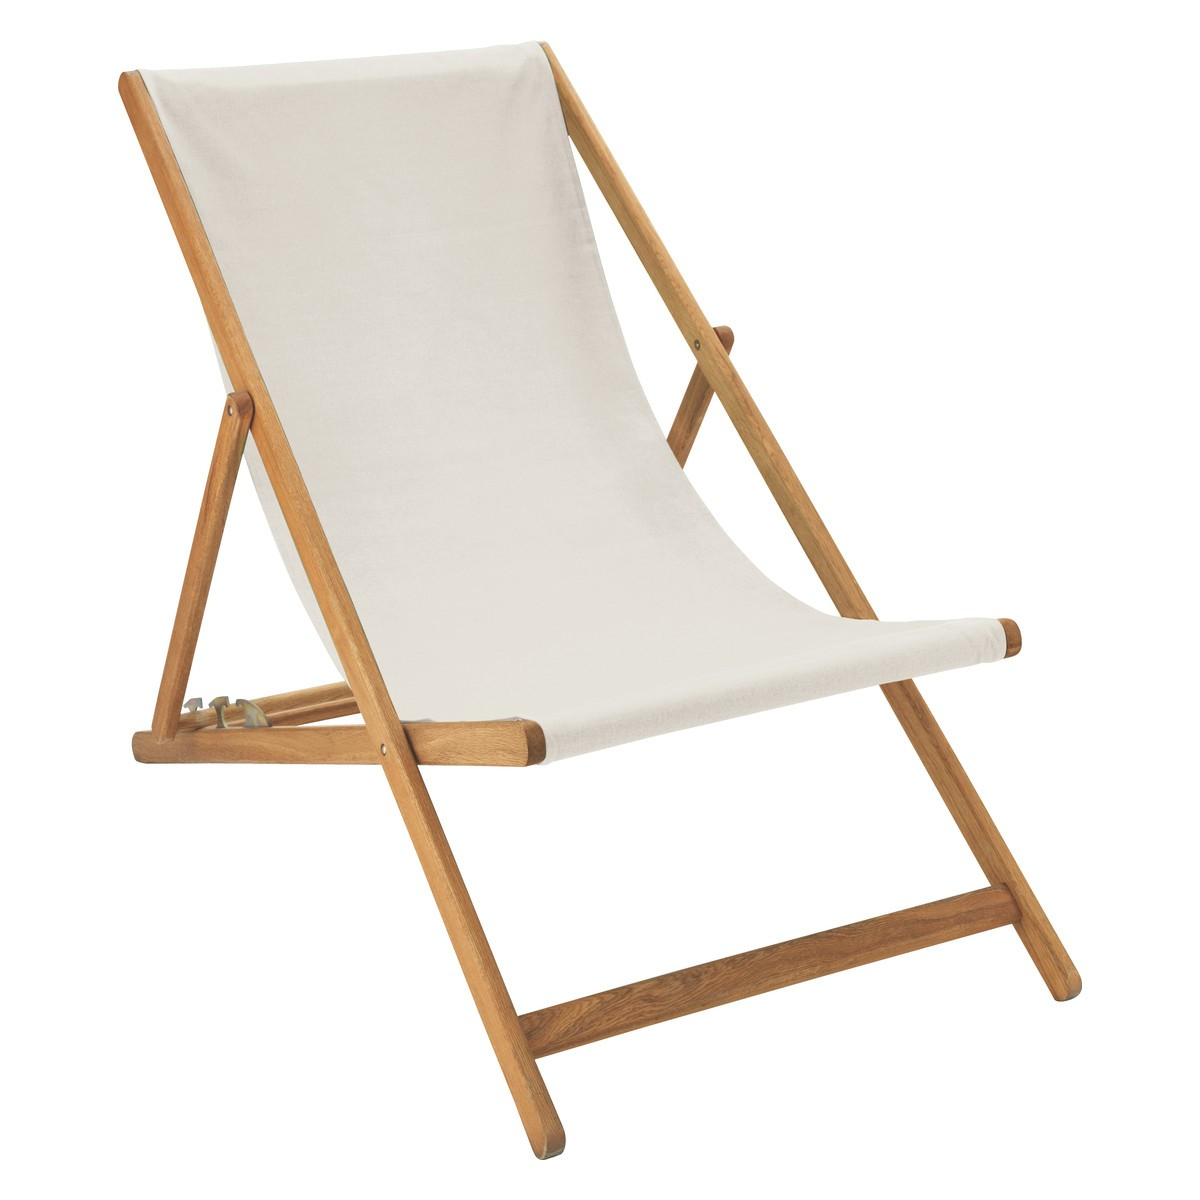chairs: (86, 40, 1090, 1166)
